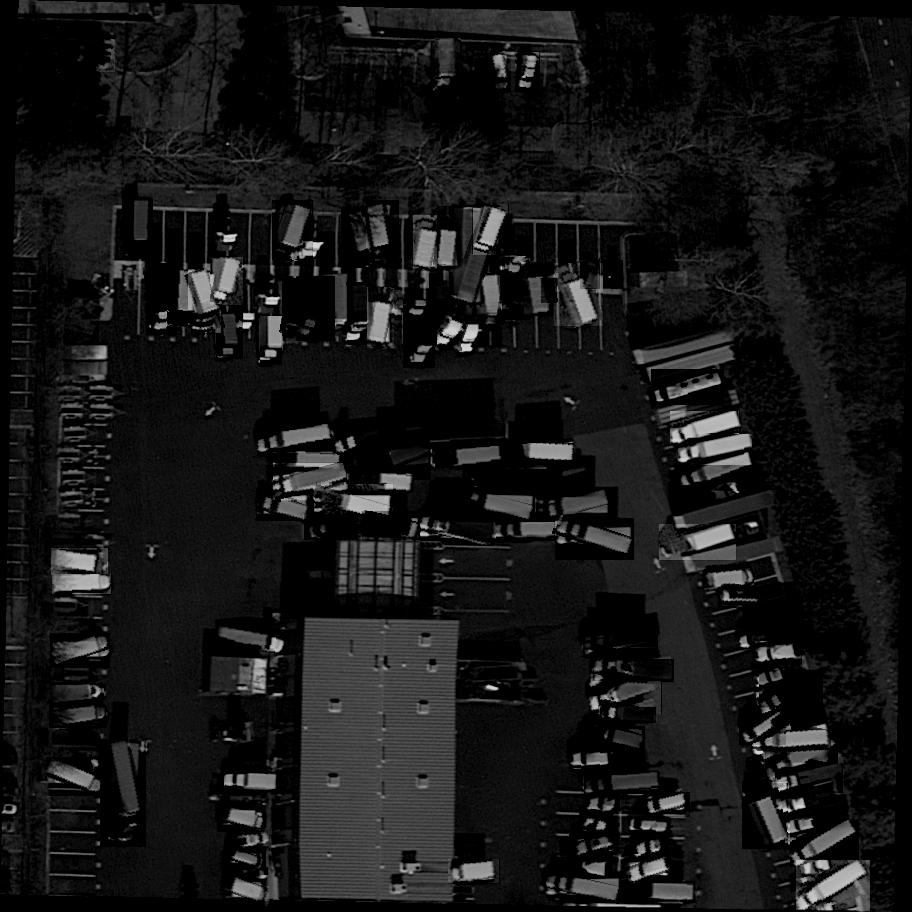large-vehicle: (437, 206, 509, 352), (101, 740, 146, 847), (766, 732, 839, 787), (796, 860, 871, 912), (554, 518, 635, 562), (357, 437, 434, 482), (790, 820, 860, 869), (555, 261, 604, 330), (741, 783, 790, 850), (314, 484, 396, 524), (588, 673, 663, 716), (759, 671, 826, 719), (679, 452, 755, 494), (272, 464, 349, 503), (660, 524, 737, 563), (652, 370, 726, 409), (296, 276, 337, 343), (397, 423, 506, 447), (457, 490, 536, 523), (273, 199, 315, 261), (421, 513, 496, 547), (256, 425, 335, 457), (670, 412, 741, 447), (536, 489, 609, 523), (363, 200, 399, 267), (678, 435, 752, 467), (47, 757, 106, 797), (583, 628, 659, 659), (776, 764, 846, 797), (404, 297, 436, 369), (146, 263, 178, 334), (546, 872, 623, 901), (187, 269, 221, 334), (50, 633, 111, 669), (341, 207, 377, 268), (740, 621, 814, 650), (429, 273, 458, 346), (217, 627, 285, 657), (122, 197, 154, 260), (367, 288, 399, 350), (333, 422, 391, 456), (522, 259, 554, 319), (473, 204, 509, 256), (210, 255, 245, 308), (502, 256, 530, 321), (592, 660, 674, 682), (362, 510, 421, 540), (168, 270, 198, 328), (752, 730, 831, 752), (584, 772, 661, 794), (222, 875, 273, 908), (51, 549, 109, 578), (413, 215, 442, 270), (435, 447, 506, 469), (256, 494, 311, 521), (304, 514, 359, 541), (282, 278, 307, 336), (449, 859, 501, 886), (49, 705, 107, 729), (269, 453, 342, 472), (348, 283, 370, 345), (591, 726, 645, 751), (624, 883, 695, 902), (217, 806, 266, 833), (52, 575, 112, 597), (216, 312, 243, 360), (511, 443, 574, 463), (469, 469, 547, 485), (436, 39, 460, 90), (51, 683, 104, 706), (438, 216, 461, 268), (482, 274, 505, 326), (703, 570, 755, 590), (497, 523, 558, 540), (260, 317, 282, 364), (600, 708, 656, 724), (361, 474, 413, 491), (570, 753, 611, 770), (225, 775, 278, 788)
small-vehicle: (740, 707, 787, 746), (570, 830, 620, 865), (624, 854, 675, 882), (550, 462, 596, 491), (579, 811, 621, 841), (752, 643, 802, 667), (645, 792, 691, 818), (515, 52, 541, 93), (225, 846, 267, 871), (564, 857, 614, 878), (718, 587, 765, 608), (488, 53, 512, 94), (629, 837, 670, 861), (233, 829, 273, 853), (28, 39, 53, 74), (93, 39, 117, 74), (630, 817, 671, 836), (68, 41, 91, 74), (580, 259, 602, 291), (33, 104, 54, 136), (603, 260, 624, 291), (230, 867, 268, 884), (585, 795, 620, 812), (52, 104, 69, 133), (542, 276, 559, 305), (58, 41, 73, 72), (79, 109, 94, 137)
